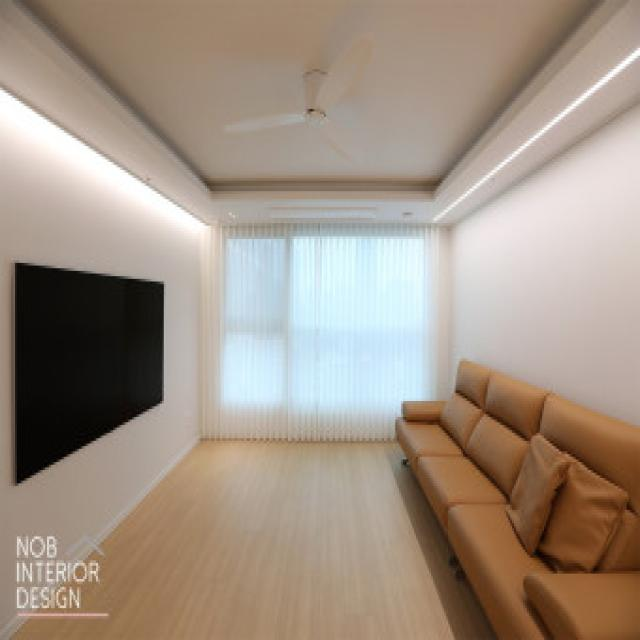Sofa: (394, 353, 638, 640)
tv: (14, 262, 166, 485)
